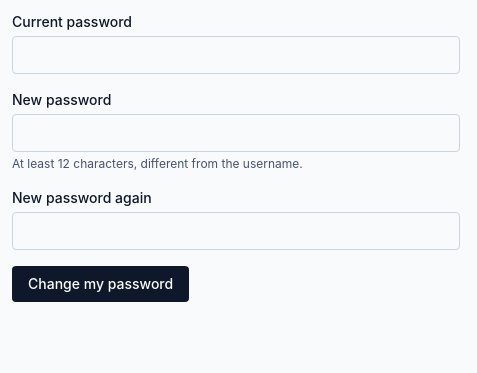
Test: ChangeOwnPasswordForm › posts the current and new passwords, then says it is changed
Type "my current password" into the password field labelled "Current password" at (236, 55), box [12,36,460,74]
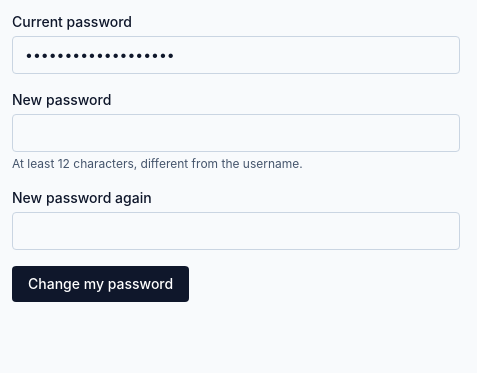
Type "correct horse battery" into the password field labelled "New password" at (236, 133), box [12,114,460,152]
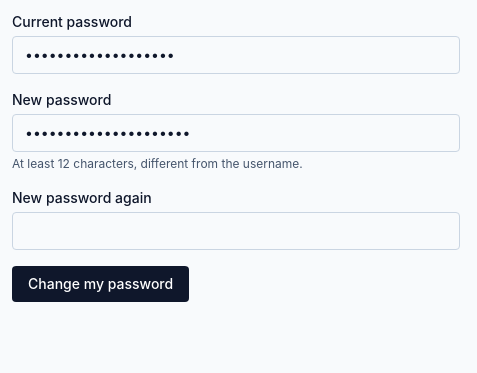
Type "correct horse battery" into the password field labelled "New password again" at (236, 231), box [12,212,460,250]
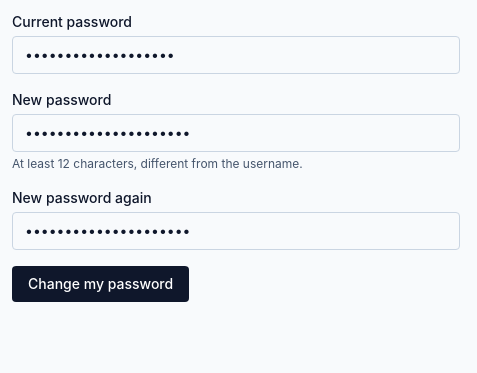
Click the button "Change my password" at (101, 284), box [12,266,189,302]
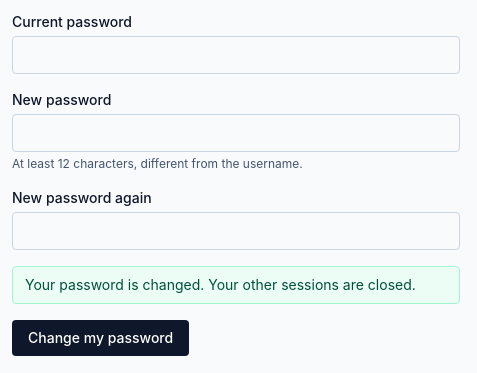
Result: the message shows "Your password is changed." at [25,276,416,293]
Result: the password field labelled "New password" is empty at [12,114,460,152]
